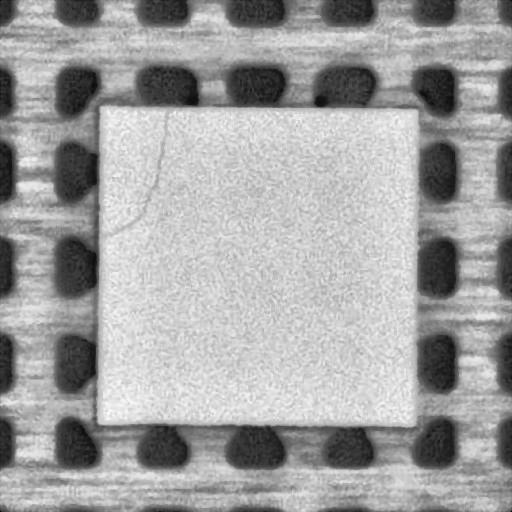DIE_CRACK: (98, 111, 170, 235)
